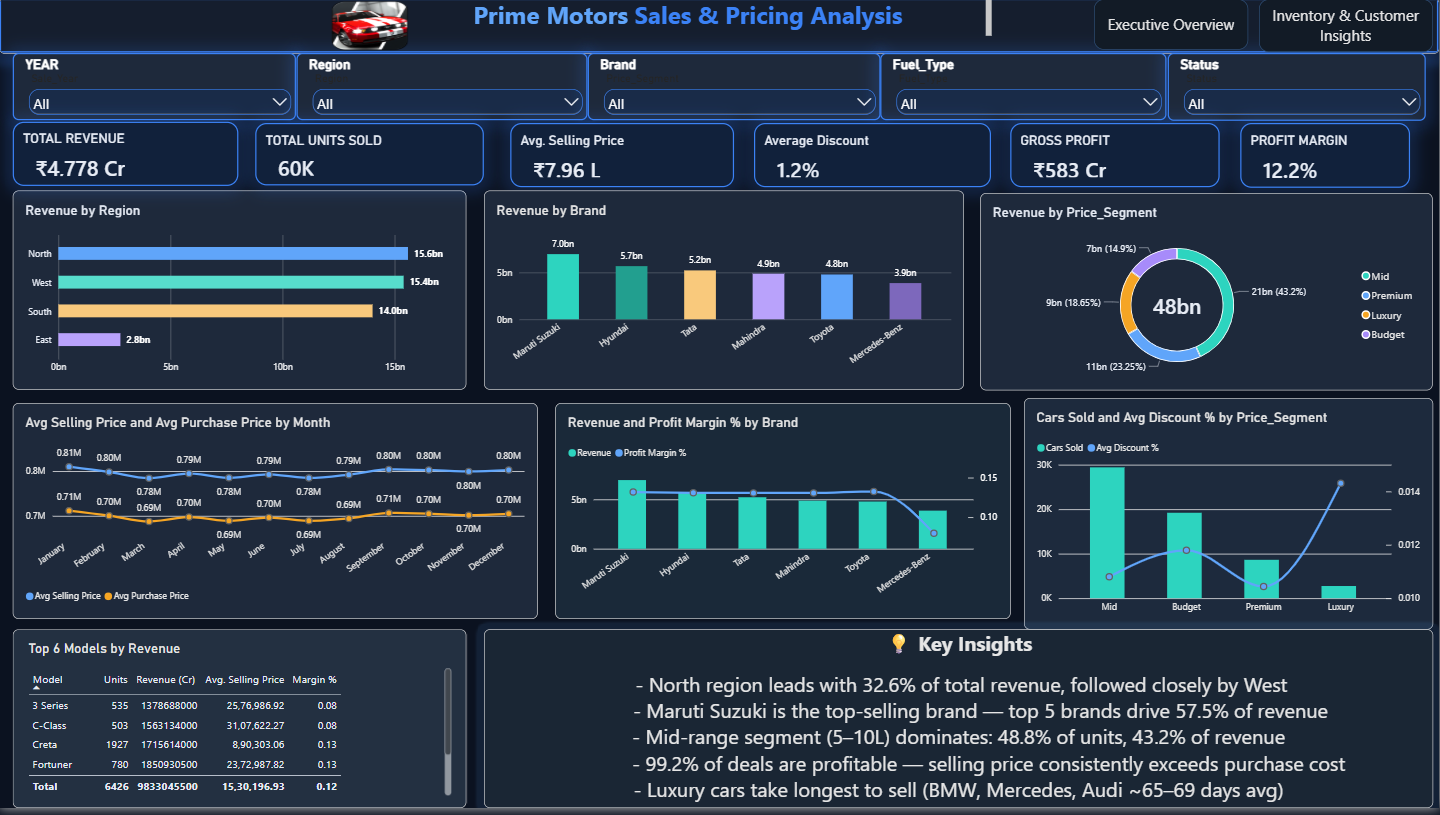

The page's visual inventory and layout, read from the dashboard file:
{"tool":"powerbi","page":{"name":"Sales & Pricing Analysis","canvas":[1920,1080],"ordinal":1},"visuals":[{"type":"shape","box":[0,0,1920.4,74.1],"z":1000},{"type":"textbox","box":[570.2,0,753.3,55.6],"z":1001},{"type":"slicer","title":"YEAR","fields":{"Values":["ABC_Motors_Used_Car_Sales.Sale_Year"]},"box":[18.5,74.1,377.7,89.6],"z":1002},{"type":"slicer","title":"Region","fields":{"Values":["ABC_Motors_Used_Car_Sales.Region"]},"box":[397.3,74.1,388.4,89.6],"z":1003},{"type":"slicer","title":"Brand","fields":{"Values":["ABC_Motors_Used_Car_Sales.Price_Segment"]},"box":[784.2,74.1,390.5,89.6],"z":1004},{"type":"slicer","title":"Fuel_Type","fields":{"Values":["ABC_Motors_Used_Car_Sales.Fuel_Type"]},"box":[1175.3,74.1,382,89.6],"z":1005},{"type":"slicer","title":"Status","fields":{"Values":["ABC_Motors_Used_Car_Sales.Status"]},"box":[1558.2,74.1,343.7,90.6],"z":1006},{"type":"barChart","title":"Revenue by Region","fields":{"Category":["ABC_Motors_Used_Car_Sales.Region"],"Y":["ABC_Motors_Used_Car_Sales.Revenue"]},"box":[18.5,257.3,605.1,265.5],"z":1007},{"type":"cardVisual","title":"TOTAL REVENUE","fields":{"Data":["ABC_Motors_Used_Car_Sales.Revenue Text"]},"box":[18.5,164.7,300.9,85.4],"z":1008},{"type":"cardVisual","title":"Avg. Selling Price","fields":{"Data":["ABC_Motors_Used_Car_Sales.Avg Price Text"]},"box":[681.3,166.7,298.7,85.4],"z":1009},{"type":"cardVisual","title":"Average Discount","fields":{"Data":["ABC_Motors_Used_Car_Sales.Avg Discount %"]},"box":[1006.5,166.7,315.8,85.4],"z":1010},{"type":"cardVisual","title":"TOTAL UNITS SOLD","fields":{"Data":["ABC_Motors_Used_Car_Sales.Cars Sold"]},"box":[341.7,166.7,305.1,83.2],"z":1011},{"type":"image","box":[436.7,0,115.5,73.9],"z":1012},{"type":"cardVisual","title":"GROSS PROFIT","fields":{"Data":["ABC_Motors_Used_Car_Sales.Profit Text"]},"box":[1348.2,166.7,279.5,85.4],"z":1013},{"type":"cardVisual","title":"PROFIT MARGIN","fields":{"Data":["ABC_Motors_Used_Car_Sales.Profit Margin %"]},"box":[1654.9,166.7,226.4,86.4],"z":1014},{"type":"columnChart","title":"Revenue by Brand","fields":{"Category":["ABC_Motors_Used_Car_Sales.Brand"],"Y":["ABC_Motors_Used_Car_Sales.Revenue"]},"box":[646.3,257.3,640.1,265.5],"z":1015},{"type":"donutChart","fields":{"Category":["ABC_Motors_Used_Car_Sales.Price_Segment"],"Y":["ABC_Motors_Used_Car_Sales.Revenue"]},"box":[1309.1,259.3,603.1,263.5],"z":1016},{"type":"lineChart","fields":{"Category":["ABC_Motors_Used_Car_Sales.Sale_Date.Variation.Date Hierarchy.Month"],"Y":["ABC_Motors_Used_Car_Sales.Avg Selling Price","ABC_Motors_Used_Car_Sales.Avg Purchase Price"]},"box":[18.5,539.3,699.8,288.2],"z":1017},{"type":"lineStackedColumnComboChart","fields":{"Category":["ABC_Motors_Used_Car_Sales.Brand"],"Y":["ABC_Motors_Used_Car_Sales.Revenue"],"Y2":["ABC_Motors_Used_Car_Sales.Profit Margin %"]},"box":[741,539.3,607.2,288.2],"z":1018},{"type":"lineStackedColumnComboChart","fields":{"Category":["ABC_Motors_Used_Car_Sales.Price_Segment"],"Y":["ABC_Motors_Used_Car_Sales.Cars Sold"],"Y2":["ABC_Motors_Used_Car_Sales.Avg Discount %"]},"box":[1366.7,533.1,545.5,308.7],"z":1019},{"type":"tableEx","title":"Top 6 Models by Revenue","fields":{"Values":["ABC_Motors_Used_Car_Sales.Model","ABC_Motors_Used_Car_Sales.Cars Sold","ABC_Motors_Used_Car_Sales.Revenue","ABC_Motors_Used_Car_Sales.Avg Selling Price","ABC_Motors_Used_Car_Sales.Profit Margin %"]},"box":[18.5,841.9,605.1,238.8],"z":1020},{"type":"textbox","box":[646.3,841.9,1265.9,238.8],"z":1021},{"type":"actionButton","box":[1680,1.7,231.7,70],"z":1022},{"type":"actionButton","box":[1460.2,2.3,205.6,67],"z":1023}]}

Visuals, with their boxes in screenshot pixels (x1, y1, x2, y2), scaled from the page's 1920x1080 canvas onto the 1440x815 screenshot:
shape: <box>0,0,1439,56</box>
textbox: <box>428,0,993,42</box>
"YEAR" slicer: <box>14,56,297,124</box>
"Region" slicer: <box>298,56,589,124</box>
"Brand" slicer: <box>588,56,881,124</box>
"Fuel_Type" slicer: <box>881,56,1168,124</box>
"Status" slicer: <box>1169,56,1426,124</box>
"Revenue by Region" barChart: <box>14,194,468,395</box>
"TOTAL REVENUE" cardVisual: <box>14,124,240,189</box>
"Avg. Selling Price" cardVisual: <box>511,126,735,190</box>
"Average Discount" cardVisual: <box>755,126,992,190</box>
"TOTAL UNITS SOLD" cardVisual: <box>256,126,485,189</box>
image: <box>328,0,414,56</box>
"GROSS PROFIT" cardVisual: <box>1011,126,1221,190</box>
"PROFIT MARGIN" cardVisual: <box>1241,126,1411,191</box>
"Revenue by Brand" columnChart: <box>485,194,965,395</box>
donutChart - ABC_Motors_Used_Car_Sales.Price_Segment x ABC_Motors_Used_Car_Sales.Revenue: <box>982,196,1434,395</box>
lineChart - ABC_Motors_Used_Car_Sales.Sale_Date.Variation.Date Hierarchy.Month x ABC_Motors_Used_Car_Sales.Avg Selling Price: <box>14,407,539,624</box>
lineStackedColumnComboChart - ABC_Motors_Used_Car_Sales.Brand x ABC_Motors_Used_Car_Sales.Revenue: <box>556,407,1011,624</box>
lineStackedColumnComboChart - ABC_Motors_Used_Car_Sales.Price_Segment x ABC_Motors_Used_Car_Sales.Cars Sold: <box>1025,402,1434,635</box>
"Top 6 Models by Revenue" tableEx: <box>14,635,468,814</box>
textbox: <box>485,635,1434,814</box>
actionButton: <box>1260,1,1434,54</box>
actionButton: <box>1095,2,1249,52</box>
